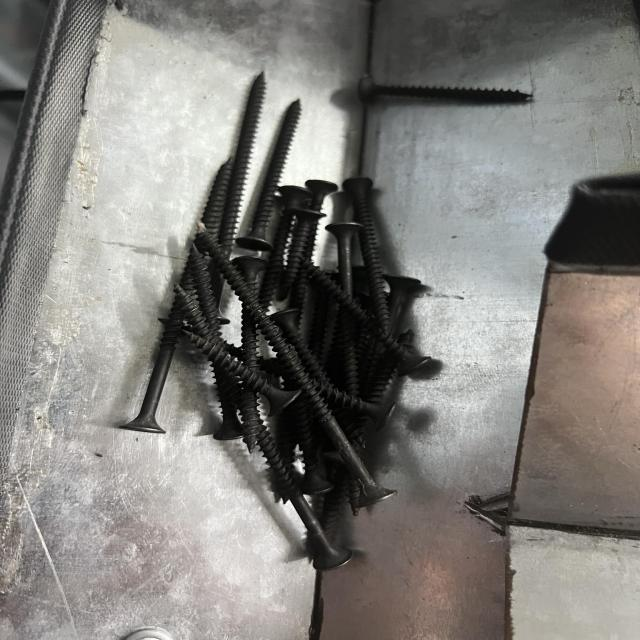screw: (160, 323, 306, 419), (354, 68, 541, 112)
